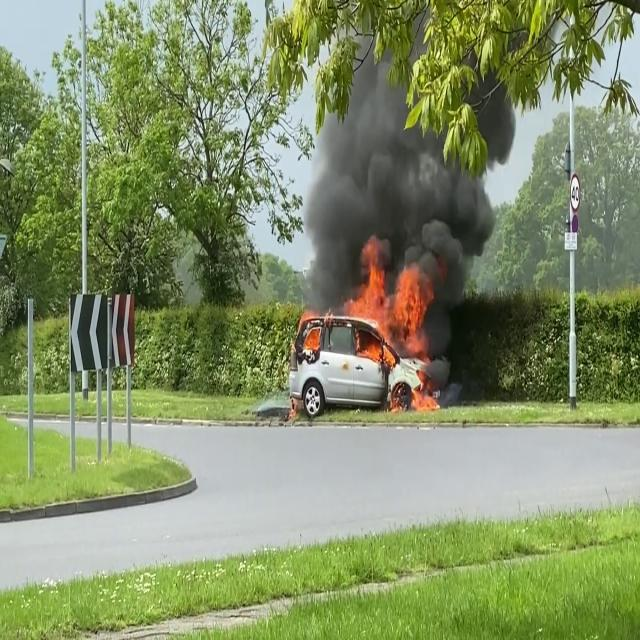Fire: (342, 250, 440, 398)
Smoke: (286, 38, 520, 296)
